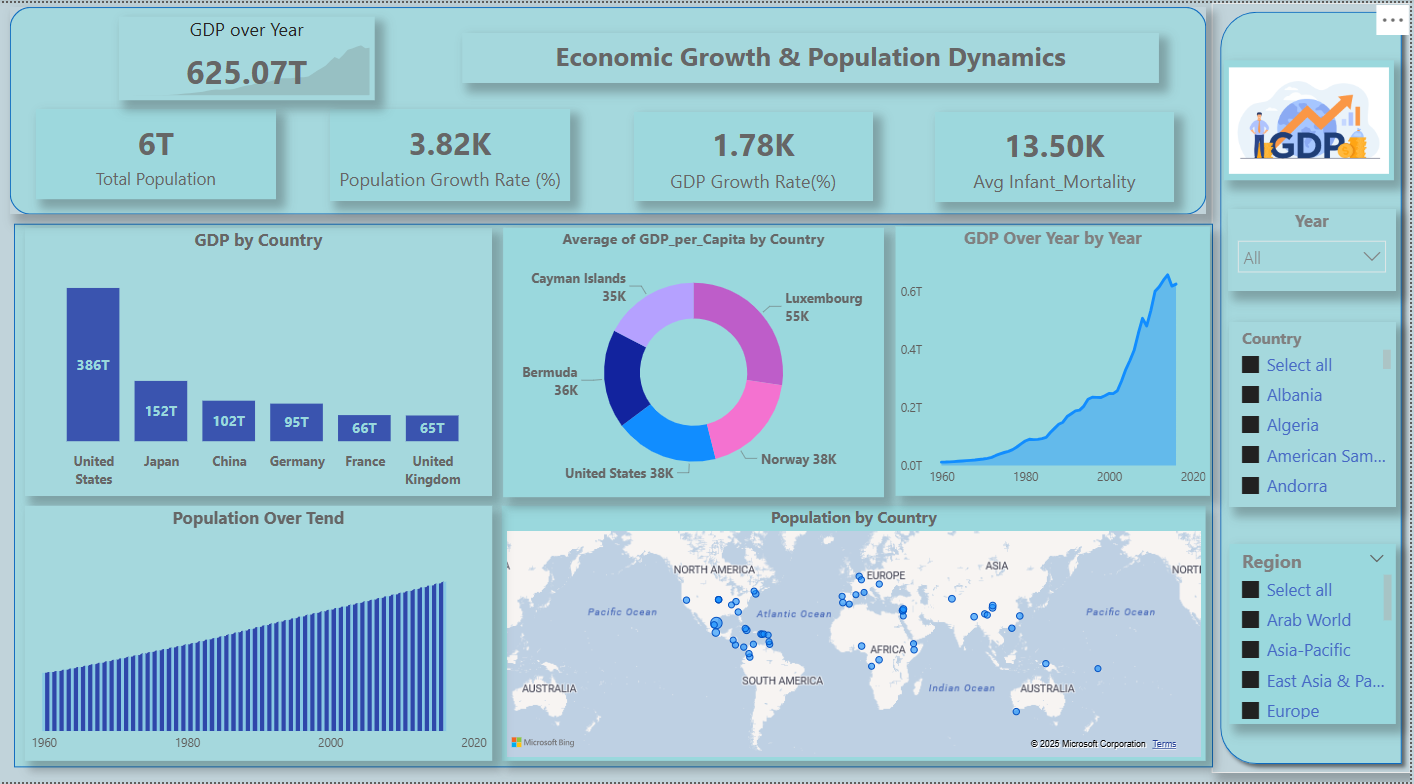

The dashboard page shown, as its layout file describes it:
{"tool":"powerbi","page":{"name":"DASHBOARD","canvas":[1450,800],"ordinal":1},"visuals":[{"type":"shape","box":[1245.5,0,204.3,790.7],"z":0},{"type":"shape","box":[0,211.3,1262.3,589.2],"z":1000},{"type":"shape","box":[11.2,4.2,1228.7,213],"z":2000},{"type":"textbox","box":[475.7,31.4,715.7,51.4],"z":3000},{"type":"card","title":"Total","fields":{"Values":["Sum(PopulationPerCountry.Population)"]},"box":[37.8,109.2,246.3,92.4],"z":4000},{"type":"card","title":"Total","fields":{"Values":["GDP by Country_1960-2016.Population Growth Rate (%)"]},"box":[340.1,109.2,246.3,93.8],"z":5000},{"type":"card","title":"Total","fields":{"Values":["GDP by Country_1960-2016.GDP Growth Rate(%)"]},"box":[652.2,112,244.9,91],"z":6000},{"type":"card","title":"Total","fields":{"Values":["Avg(countries countries_world.Infant_Mortality)"]},"box":[961.4,112,244.9,92.4],"z":7000},{"type":"kpi","title":"GDP over Year","fields":{"Indicator":["Sum(GDP by Country_1960-2016.GDP)"],"TrendLine":["GDP by Country_1960-2016.Year"]},"box":[123.6,13.9,262.5,86.1],"z":8000},{"type":"clusteredColumnChart","title":"GDP by Country","fields":{"Y":["Sum(GDP by Country_1960-2016.GDP)"],"Category":["countries countries_world.Country"]},"box":[27.2,230.3,479.8,275.1],"z":9000},{"type":"map","title":"Population by Country","fields":{"Category":["countries countries_world.Country"],"Size":["Sum(PopulationPerCountry.Population)"]},"box":[516.8,516.8,722.9,262.3],"z":10000},{"type":"ribbonChart","title":"Population Over Tend","fields":{"Category":["PopulationPerCountry.Year"],"Y":["Sum(PopulationPerCountry.Population)"]},"box":[27.2,516.5,479.8,262.3],"z":11000},{"type":"donutChart","fields":{"Category":["countries countries_world.Country"],"Y":["Avg(countries countries_world.GDP_per_Capita)"]},"box":[517.2,230.3,390.8,276.4],"z":12000},{"type":"areaChart","fields":{"Category":["GDP by Country_1960-2016.Year"],"Y":["GDP by Country_1960-2016.GDP Over Year"]},"box":[921.2,229.5,323.2,276.4],"z":13000},{"type":"slicer","title":"Year","fields":{"Values":["GDP by Country_1960-2016.Year"]},"box":[1260.9,659.2,172.1,84],"z":14000},{"type":"slicer","fields":{"Values":["countries countries_world.Country"]},"box":[1262.3,216.9,170.7,190.3],"z":15000},{"type":"slicer","fields":{"Values":["countries_world.Region"]},"box":[1262.3,438,170.7,184.7],"z":16000},{"type":"image","box":[1257.6,58.6,174.4,123.4],"z":17000}]}

Visuals, with their boxes on the page's 1450x800 design canvas (x1, y1, x2, y2). These are canvas units, not pixel positions in the 1414x784 screenshot, which may show the page scaled, cropped or inside an application window:
shape: {"left": 1246, "top": 0, "right": 1450, "bottom": 791}
shape: {"left": 0, "top": 211, "right": 1262, "bottom": 800}
shape: {"left": 11, "top": 4, "right": 1240, "bottom": 217}
textbox: {"left": 476, "top": 31, "right": 1191, "bottom": 83}
"Total" card: {"left": 38, "top": 109, "right": 284, "bottom": 202}
"Total" card: {"left": 340, "top": 109, "right": 586, "bottom": 203}
"Total" card: {"left": 652, "top": 112, "right": 897, "bottom": 203}
"Total" card: {"left": 961, "top": 112, "right": 1206, "bottom": 204}
"GDP over Year" kpi: {"left": 124, "top": 14, "right": 386, "bottom": 100}
"GDP by Country" clusteredColumnChart: {"left": 27, "top": 230, "right": 507, "bottom": 505}
"Population by Country" map: {"left": 517, "top": 517, "right": 1240, "bottom": 779}
"Population Over Tend" ribbonChart: {"left": 27, "top": 516, "right": 507, "bottom": 779}
donutChart - countries countries_world.Country x Avg(countries countries_world.GDP_per_Capita): {"left": 517, "top": 230, "right": 908, "bottom": 507}
areaChart - GDP by Country_1960-2016.Year x GDP by Country_1960-2016.GDP Over Year: {"left": 921, "top": 230, "right": 1244, "bottom": 506}
"Year" slicer: {"left": 1261, "top": 659, "right": 1433, "bottom": 743}
slicer - countries countries_world.Country: {"left": 1262, "top": 217, "right": 1433, "bottom": 407}
slicer - countries_world.Region: {"left": 1262, "top": 438, "right": 1433, "bottom": 623}
image: {"left": 1258, "top": 59, "right": 1432, "bottom": 182}
